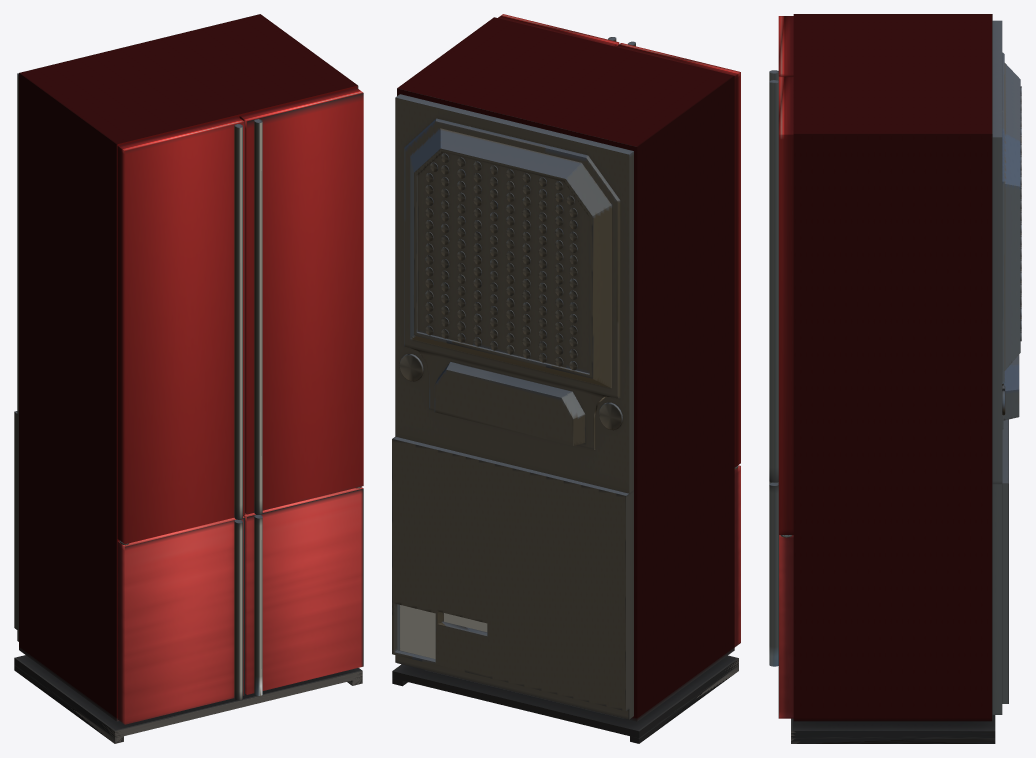
Rendered from fridge_red.glb.
3 renders of one model, left to right at view 1: azimuth 30°, elevation 25°; view 2: azimuth 150°, elevation 25°; view 3: azimuth 270°, elevation 25°, orthographic. The views are drawn at different scales.
Parts seen in each view (by area): view 1: pCylinder1; view 2: pCylinder1; view 3: pCylinder1.
Part boxes in pixels (<box>): pCylinder1: <box>14,14,363,743</box>; pCylinder1: <box>392,14,740,743</box>; pCylinder1: <box>769,14,1021,743</box>.
Size of the model in its own units: 0.7358 by 1.7 by 0.6375.
Materials: 1 (1 with a texture image).
